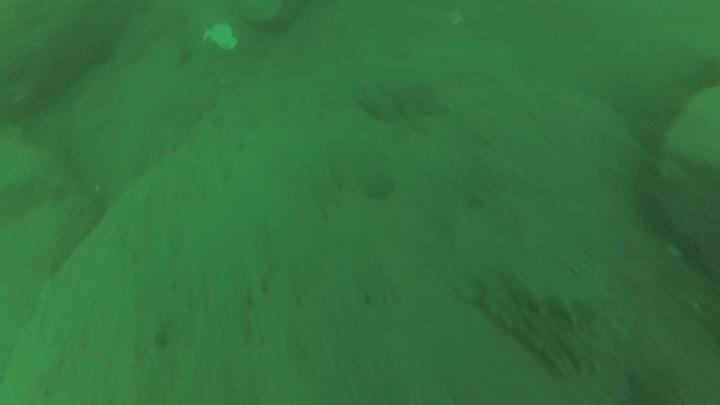holothurian: (510, 271, 614, 327)
starfish: (376, 74, 454, 128)
